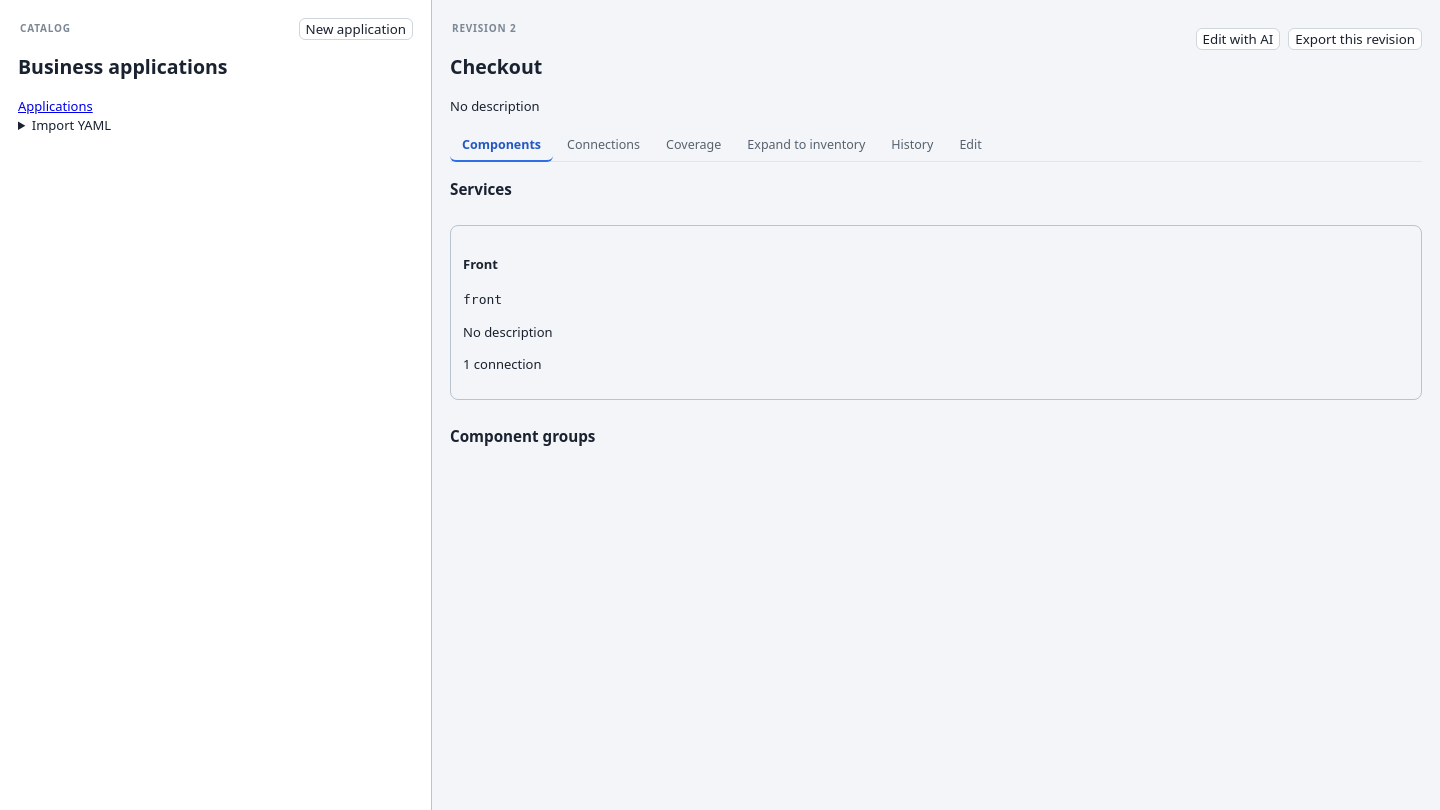
Test: Applications page › states why Analyze ready connections could not start
Step 1. Click the tab "Coverage" → (694, 146), box [654,129,733,162]
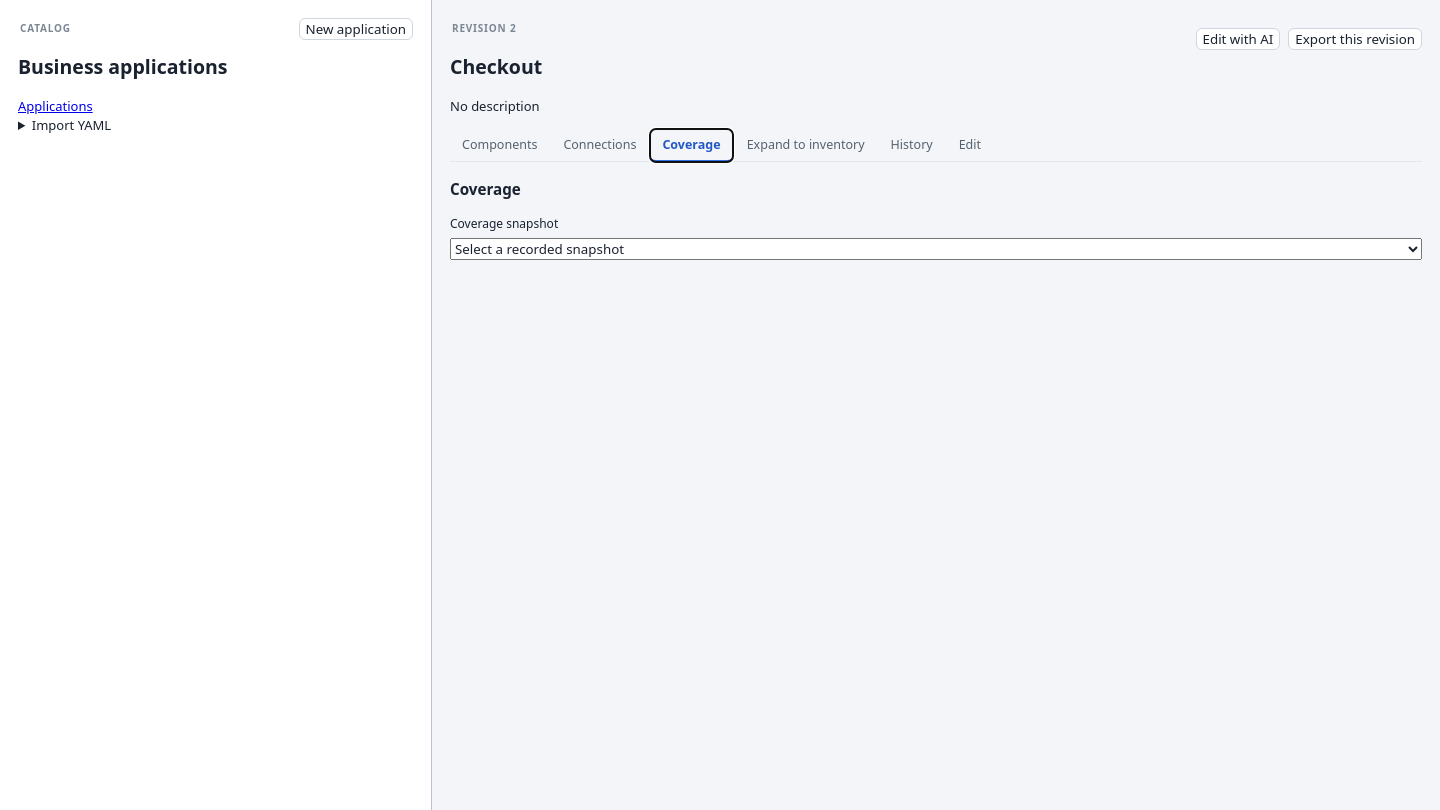
Step 2. Select "1/1/1970, 12:00:04 AM [full]" in the dropdown labelled "Coverage snapshot" → (936, 249), box [450,238,1422,260]
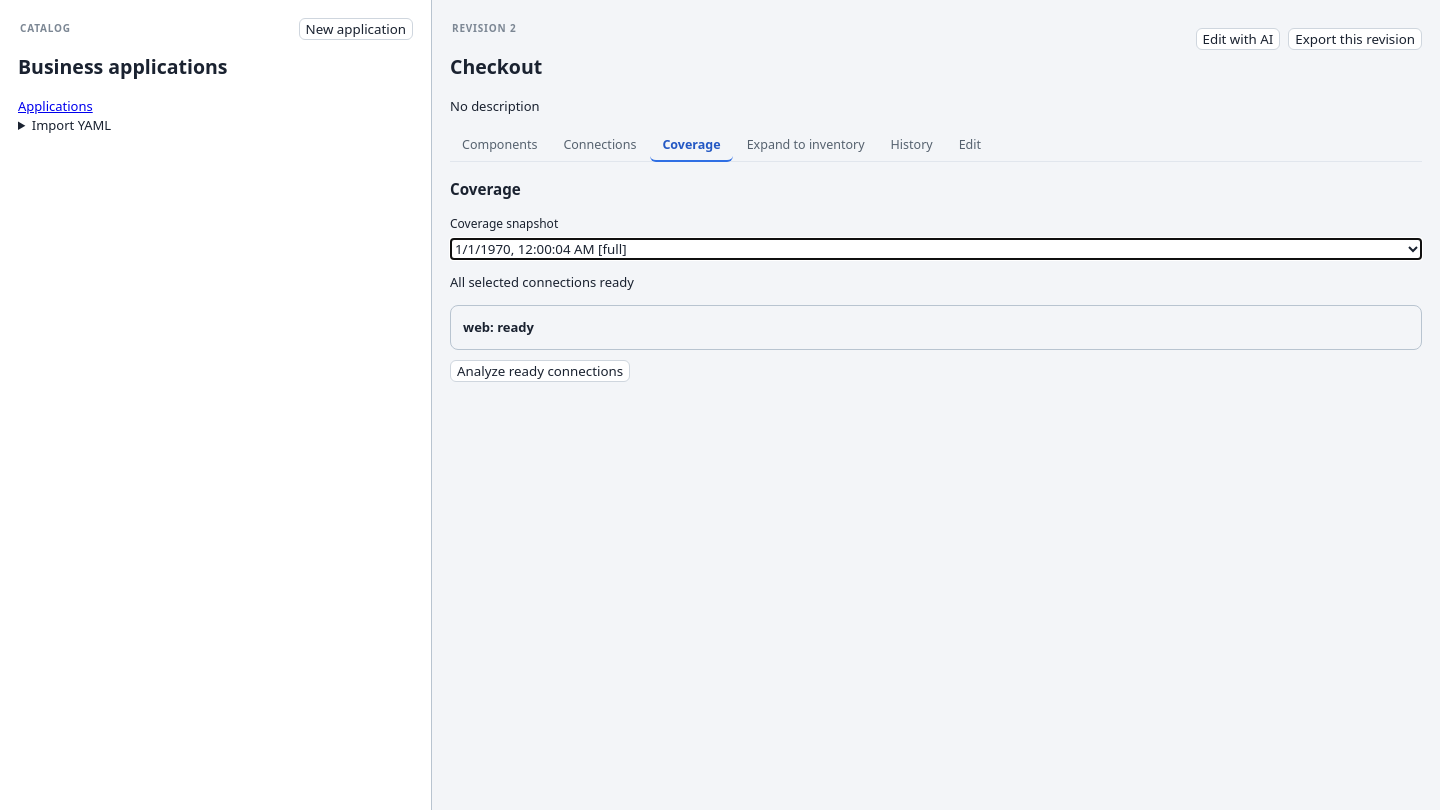
Step 3. Click the button "Analyze ready connections" → (540, 371), box [450,360,630,382]
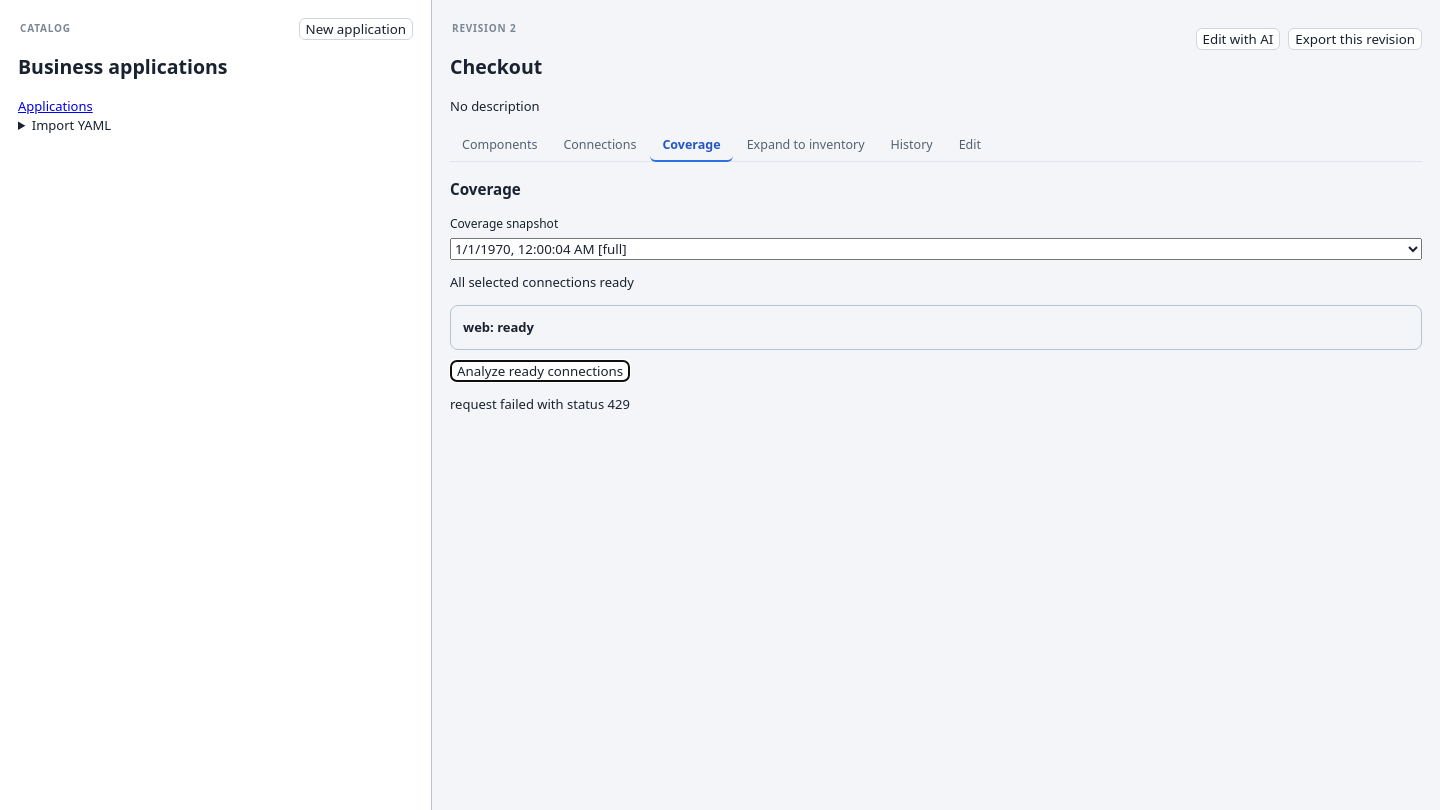
Check: the message "request failed with status 429" is shown, box [450,395,630,413]
